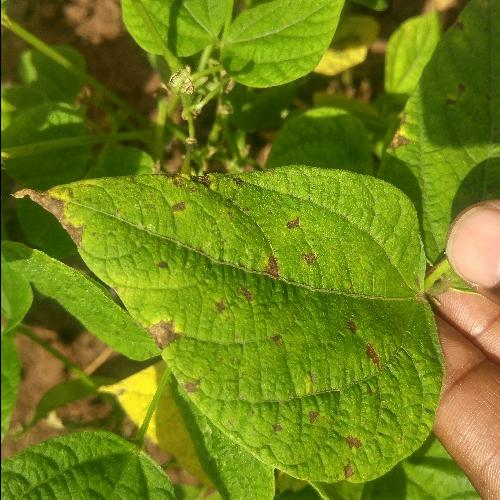hawar: (143, 158, 254, 241), (265, 404, 376, 482), (6, 177, 90, 270), (242, 210, 334, 294), (326, 304, 388, 384), (132, 301, 192, 365), (199, 286, 271, 328), (173, 368, 213, 406)
